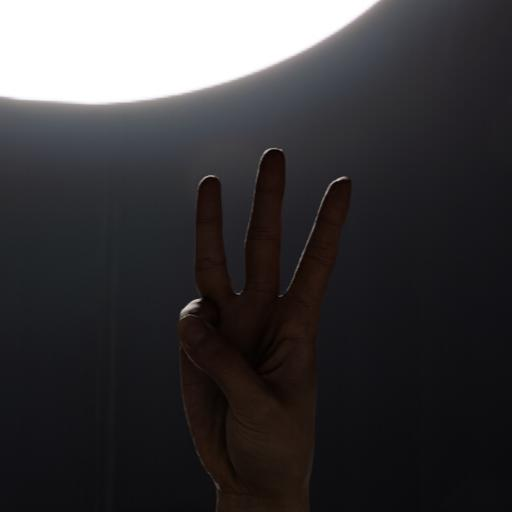W: (168, 143, 354, 485)
